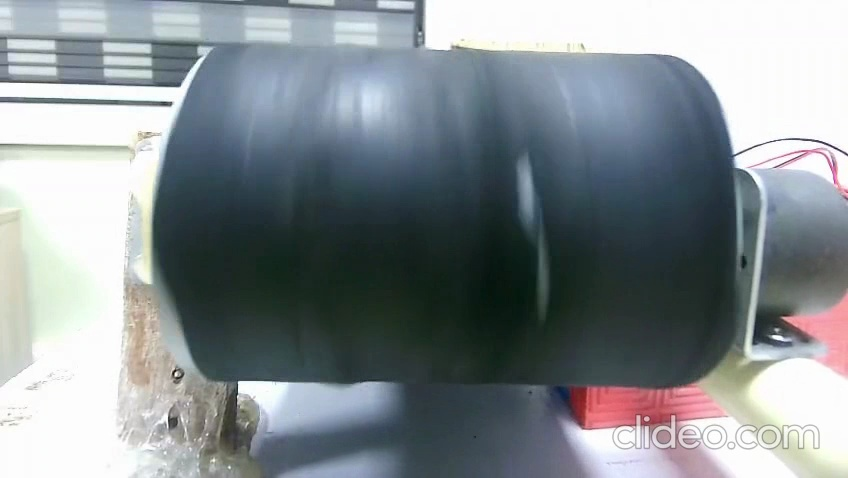tear: (513, 154, 557, 319), (524, 173, 531, 197)
